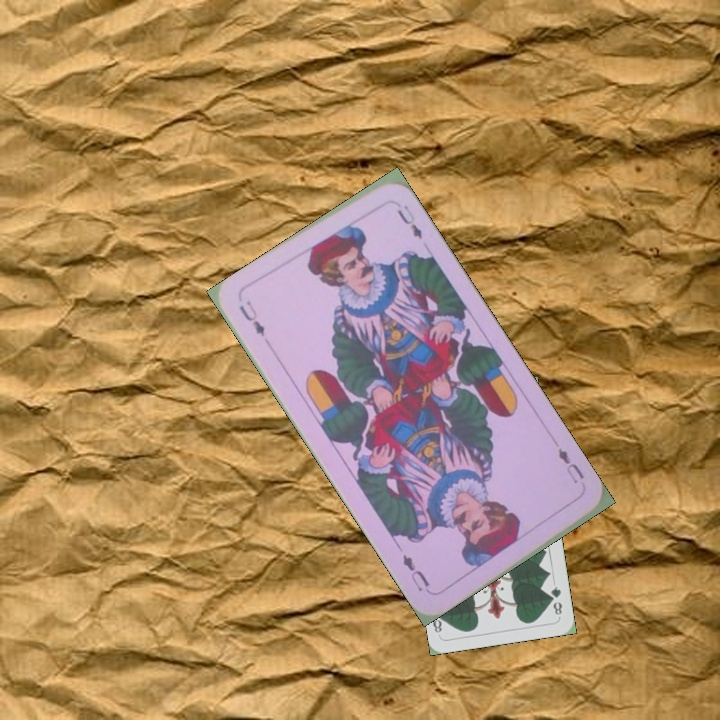EU: (551, 439, 588, 486), (235, 296, 268, 339)
G8: (546, 582, 565, 618)
